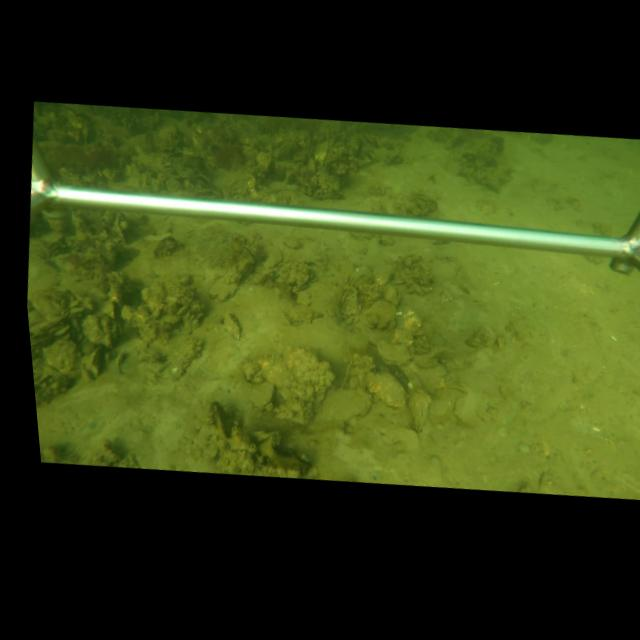Oyster-Closed: (407, 389, 431, 434), (81, 314, 112, 348), (374, 339, 413, 366), (208, 277, 240, 301), (250, 382, 275, 410), (83, 346, 102, 378), (222, 311, 240, 340), (107, 282, 123, 307), (376, 266, 394, 285)
Oyster-Indeterminate: (305, 386, 375, 429), (366, 372, 408, 408), (279, 260, 310, 292), (263, 245, 283, 269)
Oyster-Open: (338, 286, 360, 317), (382, 286, 401, 308), (195, 172, 214, 187), (242, 244, 256, 264)
